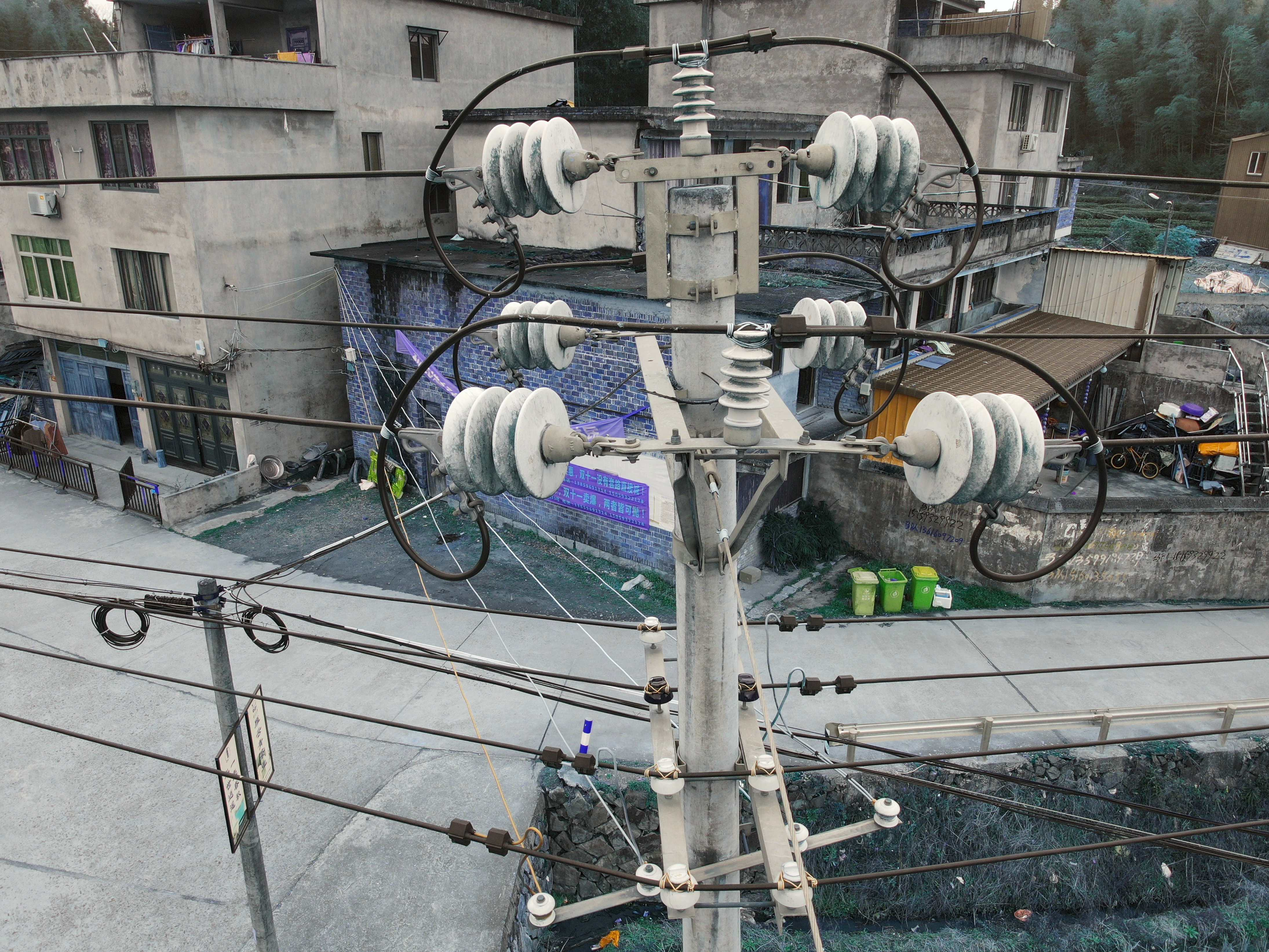severe_soiling_no_discharge_whole: (895, 388, 1053, 508), (443, 383, 583, 499), (794, 110, 922, 212), (479, 115, 599, 219), (715, 324, 777, 445), (497, 300, 584, 371), (789, 298, 865, 370), (668, 50, 719, 155), (632, 864, 662, 897)
